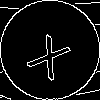X: (25, 25, 78, 82)
